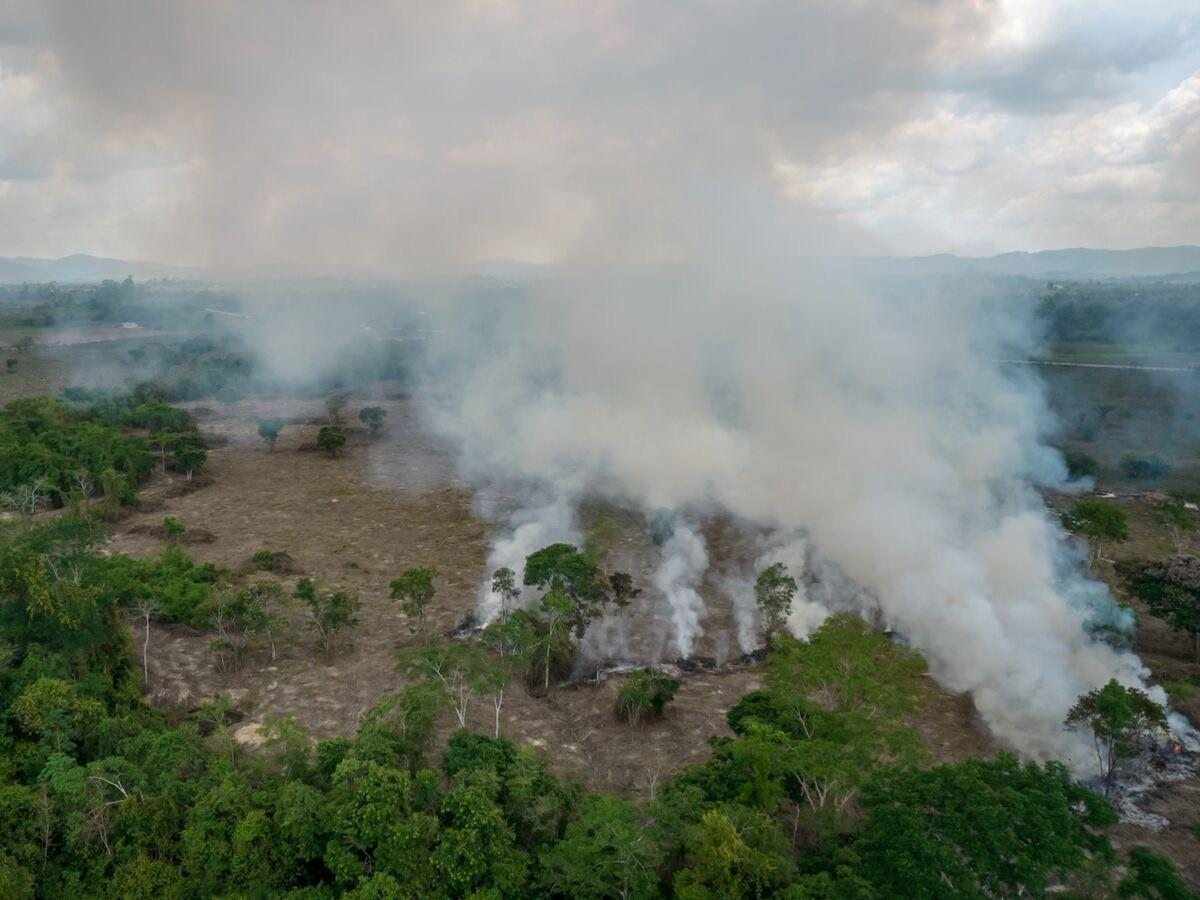smoke: (343, 261, 1179, 821), (861, 292, 1180, 832), (729, 510, 838, 674), (475, 470, 568, 651), (654, 513, 721, 684)
